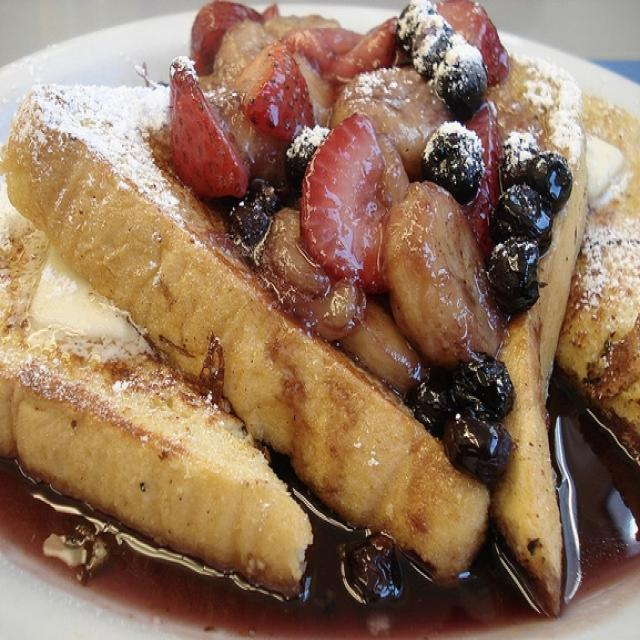面包点心: (1, 2, 636, 631)
